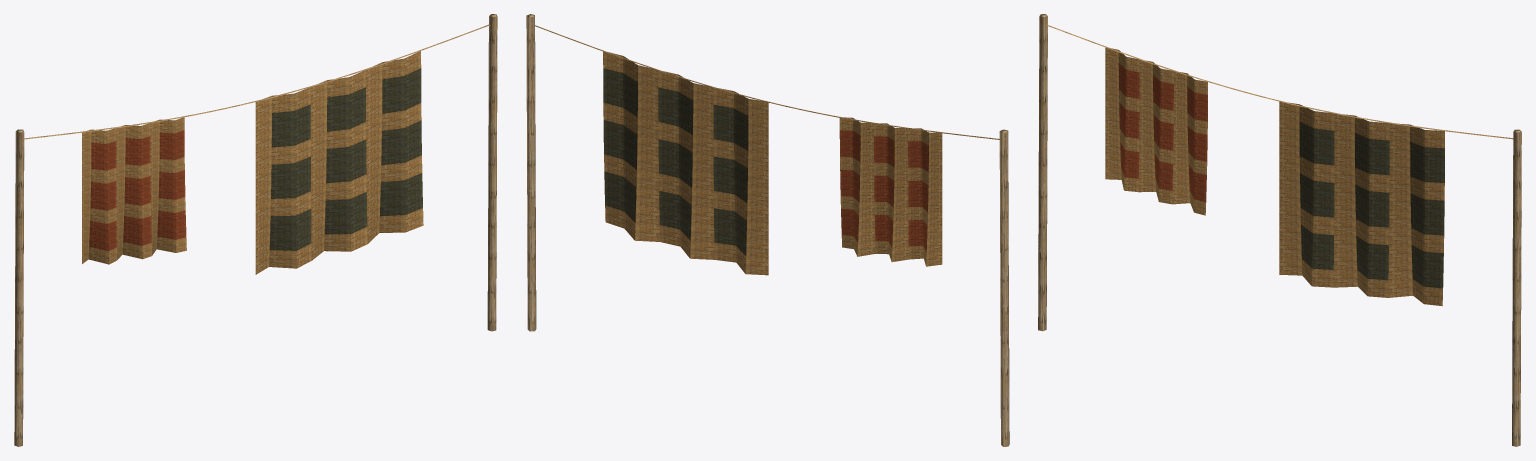
File: prop_clothesline_lod1.glb
3 renders of one model, left to right at view 1: azimuth 30°, elevation 25°; view 2: azimuth 150°, elevation 25°; view 3: azimuth 330°, elevation 25°, orthographic.
Parts seen in each view (by area): view 1: prop_clothesline; view 2: prop_clothesline; view 3: prop_clothesline.
Part boxes in pixels (box(x1,y1,x2,y2)): prop_clothesline: box(14, 14, 497, 446); prop_clothesline: box(526, 14, 1009, 446); prop_clothesline: box(1038, 14, 1521, 446).
Bounding box in the file's own units: 3.06 × 1.9 × 0.1027.
Materials: 5 (5 with a texture image).
